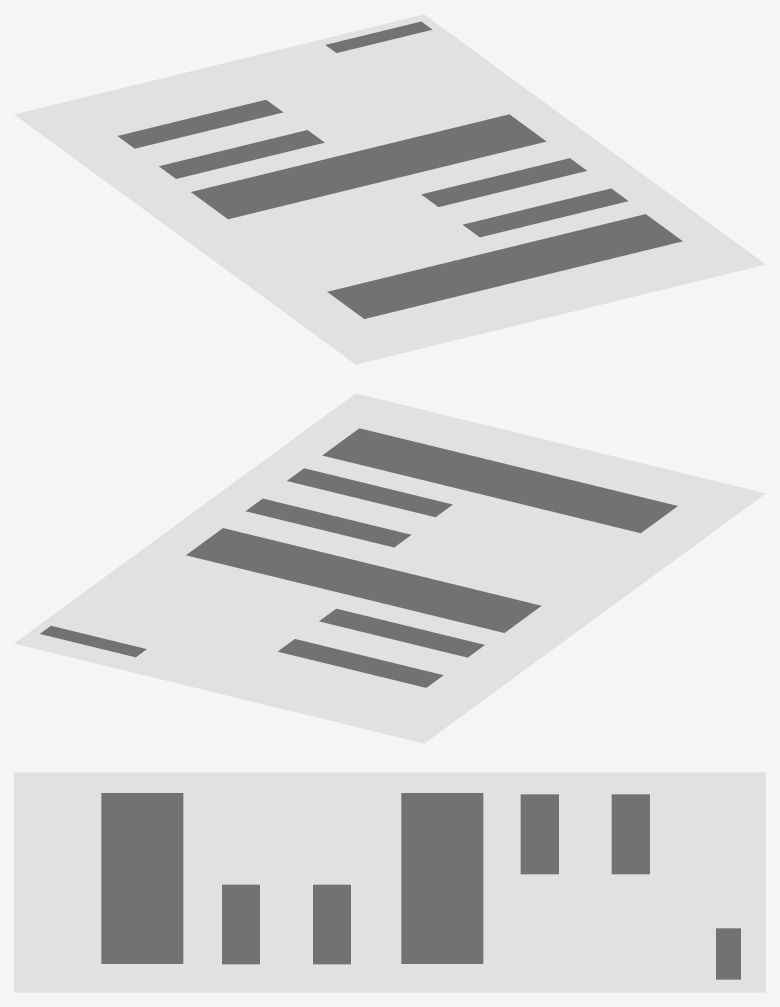
File: SM_Folder_02.fbx
The picture shows the model from 3 angles, top to bottom: view 1: azimuth 30°, elevation 25°; view 2: azimuth 150°, elevation 25°; view 3: azimuth 270°, elevation 25°; orthographic projection. The views are drawn at different scales.
Parts seen in each view (by area): view 1: SM_Folder_02; view 2: SM_Folder_02; view 3: SM_Folder_02.
Part boxes in pixels (x1=…): SM_Folder_02: x1=14, y1=14, x2=765, y2=364; SM_Folder_02: x1=14, y1=393, x2=765, y2=743; SM_Folder_02: x1=14, y1=772, x2=765, y2=992.
Size of the model in its own units: 22.82 by 0.2514 by 32.93.
